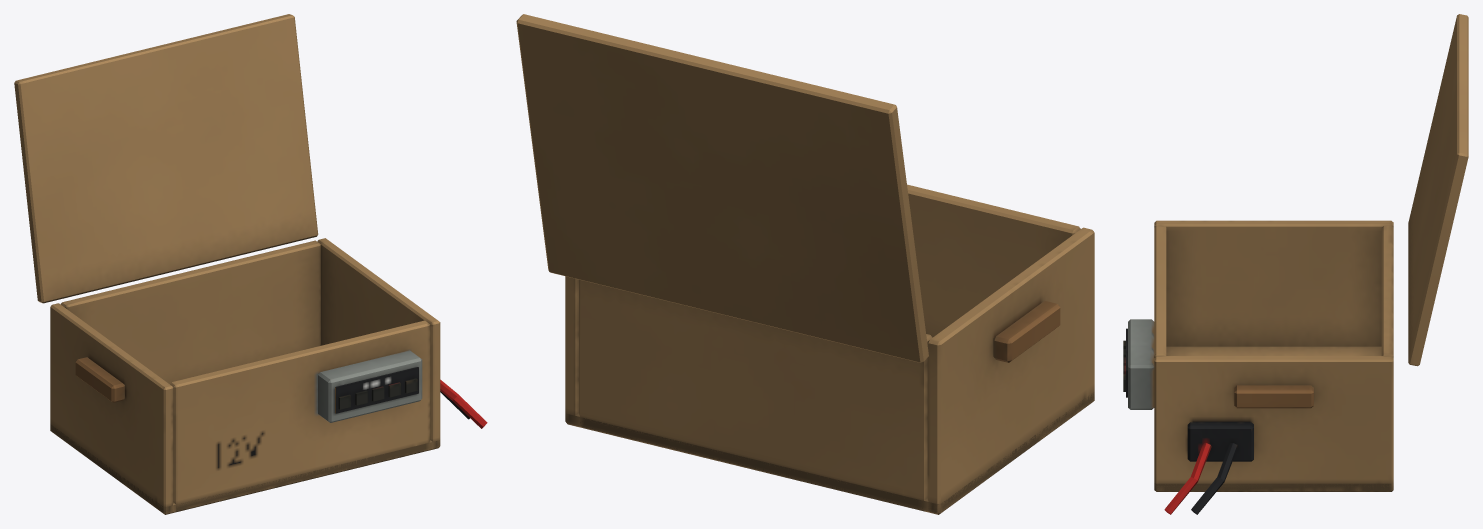
Rendered from RenewableEnergy_BatteryBoxWood.fbx.
3 views of the same model, side by side, from view 1: azimuth 30°, elevation 25°; view 2: azimuth 150°, elevation 25°; view 3: azimuth 270°, elevation 25° (orthographic). The views are drawn at different scales.
Parts seen in each view (by area): view 1: BatteryBoxWood; view 2: BatteryBoxWood; view 3: BatteryBoxWood.
Part boxes in pixels (<box>): BatteryBoxWood: <box>14,14,487,514</box>; BatteryBoxWood: <box>516,14,1094,514</box>; BatteryBoxWood: <box>1123,14,1468,514</box>.
Bounding box in the file's own units: 0.6202 × 0.5634 × 0.52.
